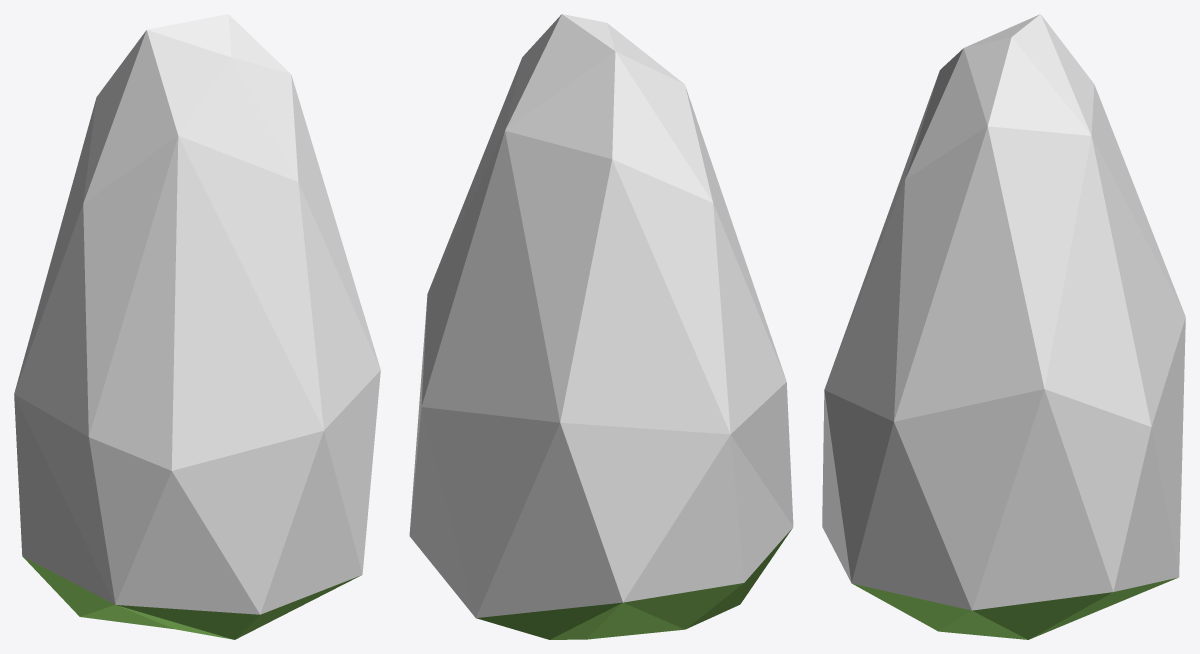
Rendered from Thuja_BushTree_s_Snow_01_LOD.fbx.
3 views of the same model, side by side, from view 1: azimuth 30°, elevation 25°; view 2: azimuth 150°, elevation 25°; view 3: azimuth 270°, elevation 25° (orthographic).
Parts seen in each view (by area): view 1: Thuja_BushTree_s_Snow_01_LOD0; view 2: Thuja_BushTree_s_Snow_01_LOD0; view 3: Thuja_BushTree_s_Snow_01_LOD0.
Boxes of the visible parts, x1,y1,x2,y2 form: Thuja_BushTree_s_Snow_01_LOD0: (14,14,380,639); Thuja_BushTree_s_Snow_01_LOD0: (409,14,793,639); Thuja_BushTree_s_Snow_01_LOD0: (822,14,1185,639).
Size of what is drawn, in the model's own units: 96.9 by 171 by 97.04.
